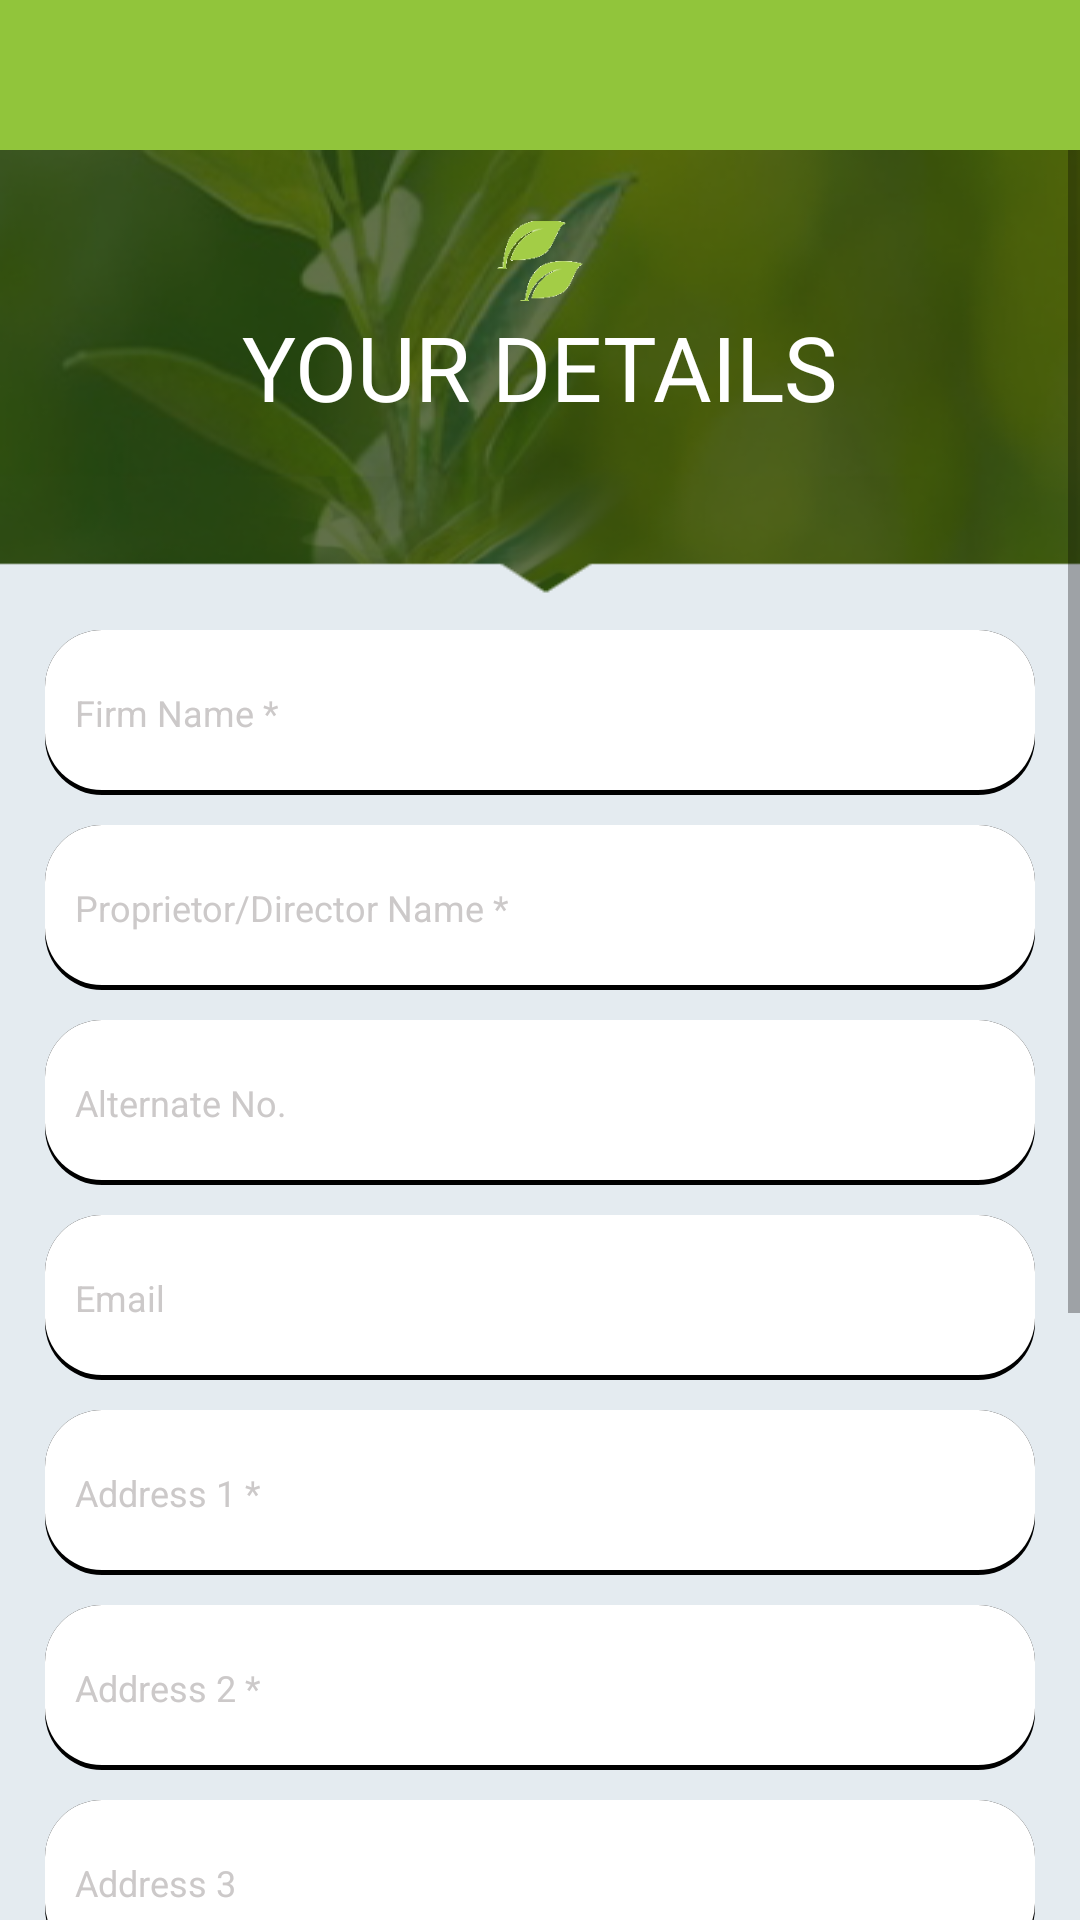

Where to tap for icons on this 1080px×1920px app screen, as [x,y]:
page nameleaf: [540,261]
